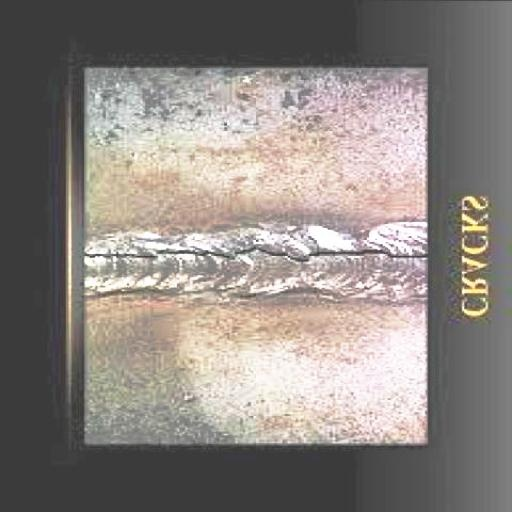crack: (85, 234, 428, 277)
